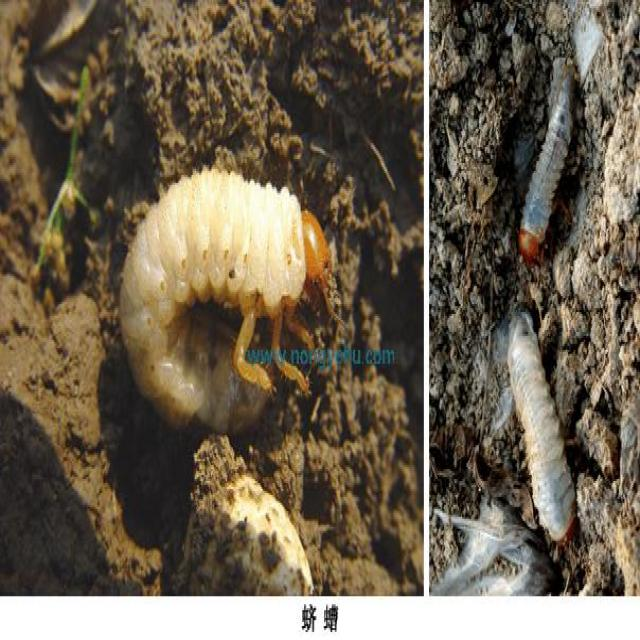Grub-Adult-: (112, 146, 334, 438)
